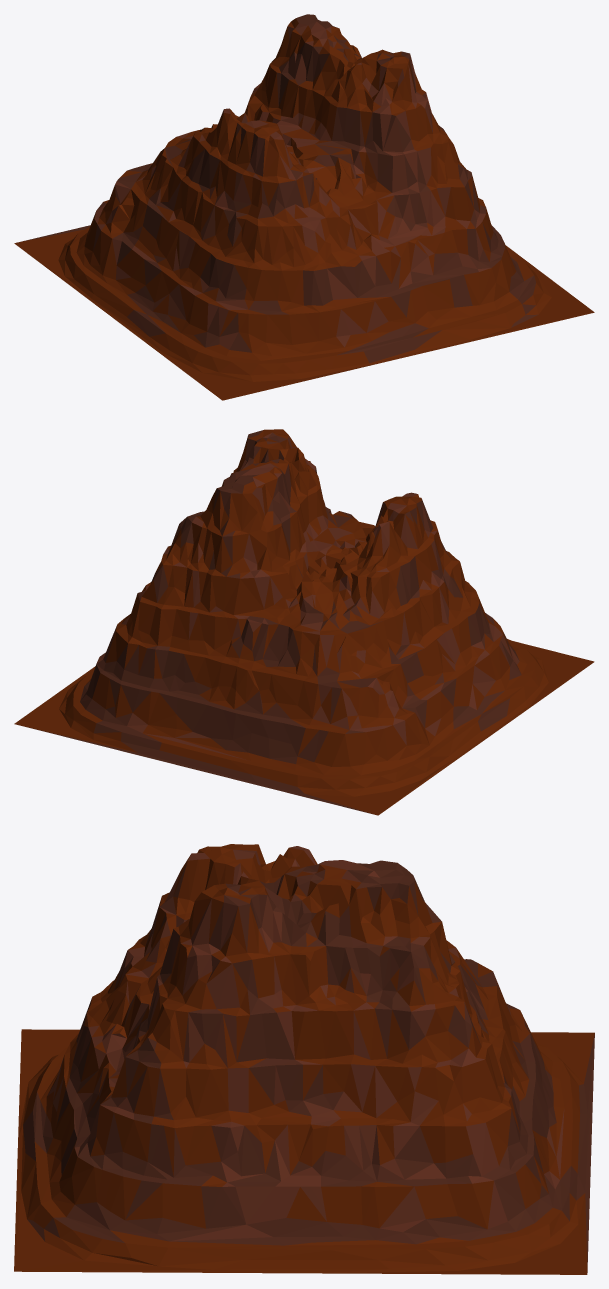
File: Canyon_arreglat.fbx
The picture shows the model from 3 angles, top to bottom: view 1: azimuth 30°, elevation 25°; view 2: azimuth 150°, elevation 25°; view 3: azimuth 270°, elevation 25°; orthographic projection. The views are drawn at different scales.
Visible parts, largest first — view 1: Landscape.003; view 2: Landscape.003; view 3: Landscape.003.
Part boxes in pixels (box(x1,y1,x2,y2)): Landscape.003: box(14, 14, 594, 400); Landscape.003: box(14, 429, 594, 815); Landscape.003: box(14, 844, 594, 1274).
Size of the model in its own units: 758 by 442 by 758.
